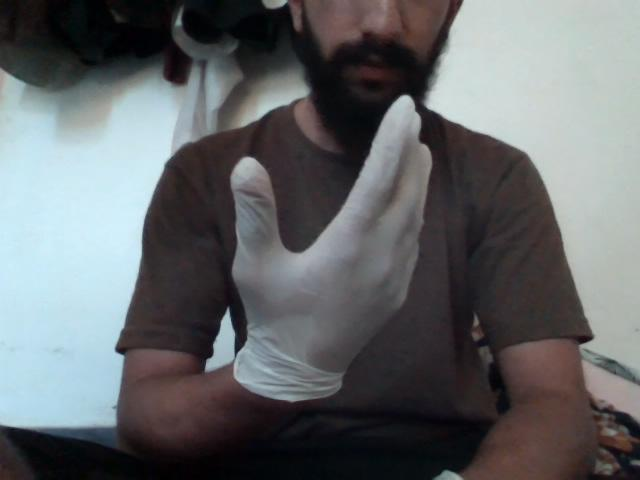gloves: (203, 95, 451, 431)
